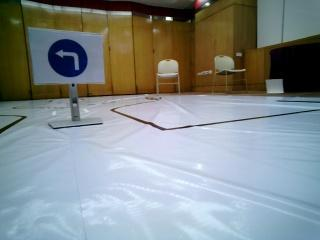left: (26, 30, 106, 87)
